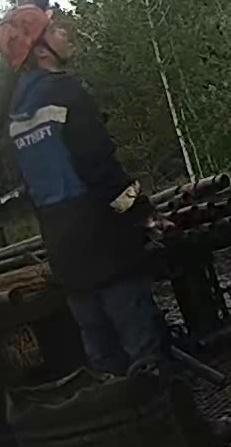gloves: (119, 196, 174, 251)
helmet: (0, 3, 55, 71)
vest: (0, 76, 134, 283)
